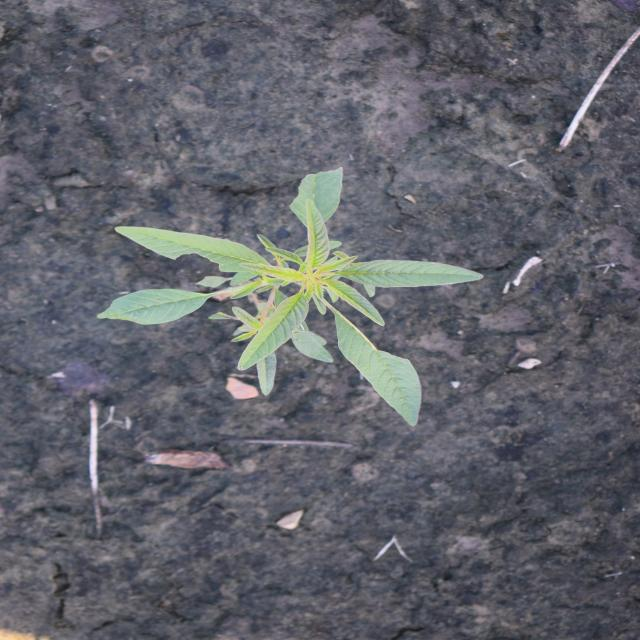Waterhemp: (92, 164, 488, 430)
